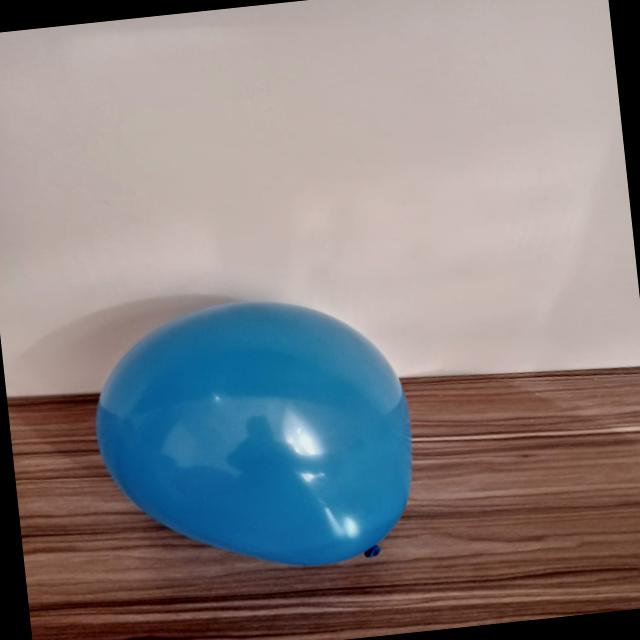balloon: (96, 302, 411, 565)
